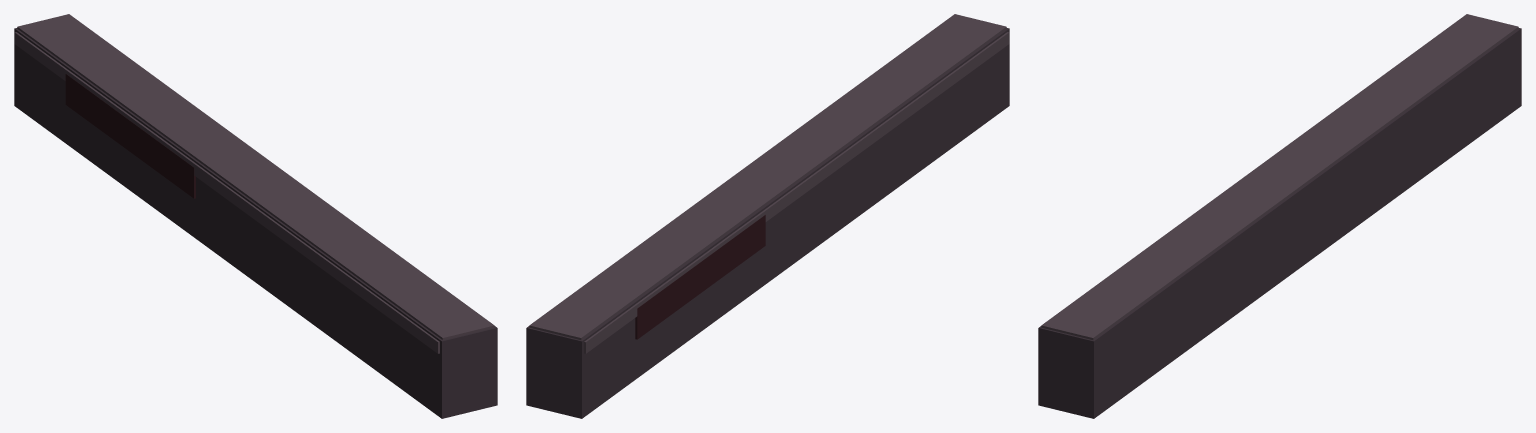
The model's file is SM_Curb_Straight_4m.obj.
The picture shows the model from 3 angles, left to right: view 1: azimuth 30°, elevation 25°; view 2: azimuth 150°, elevation 25°; view 3: azimuth 330°, elevation 25°; orthographic projection.
Parts seen in each view (by area): view 1: kerb_body, kerb_top, kerb_nose, kerb_paint_stripe; view 2: kerb_body, kerb_top, kerb_nose, kerb_paint_stripe; view 3: kerb_body, kerb_top.
Part boxes in pixels (<box>): kerb_body: <box>14,28,497,418</box>; kerb_top: <box>17,14,494,339</box>; kerb_nose: <box>14,32,439,353</box>; kerb_paint_stripe: <box>65,74,195,198</box>; kerb_body: <box>526,28,1009,418</box>; kerb_top: <box>529,14,1006,339</box>; kerb_nose: <box>584,32,1009,353</box>; kerb_paint_stripe: <box>635,215,765,339</box>; kerb_body: <box>1038,28,1521,418</box>; kerb_top: <box>1041,14,1518,339</box>.
Size of the model in its own units: 0.311 by 0.411 by 4.
